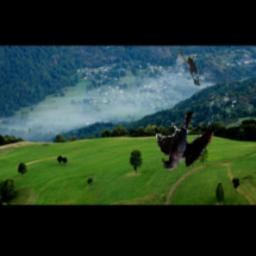Crow: (157, 111, 216, 170), (179, 51, 204, 87)
